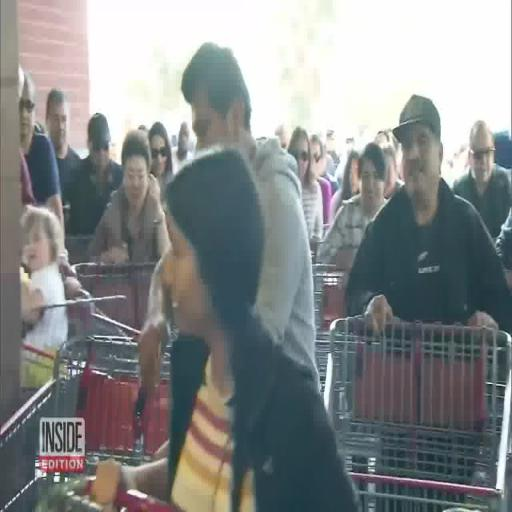shopping_cart: (320, 314, 512, 512), (0, 334, 185, 511)
